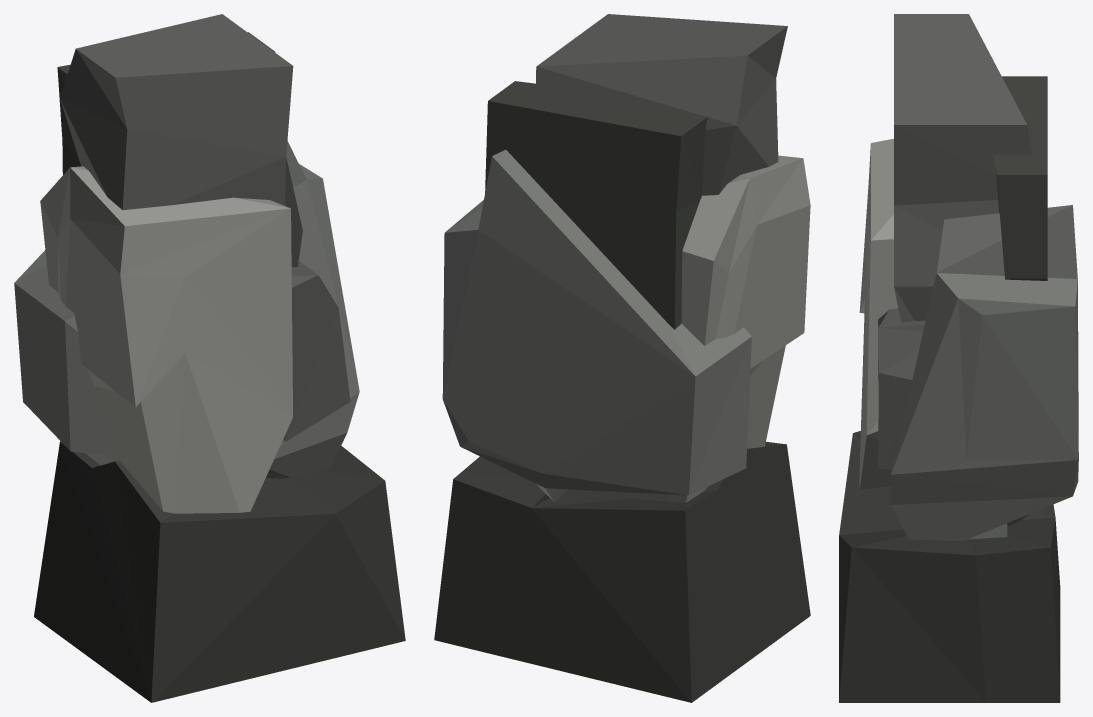
File: DD_Rock01.fbx
The picture shows the model from 3 angles, left to right: view 1: azimuth 30°, elevation 25°; view 2: azimuth 150°, elevation 25°; view 3: azimuth 270°, elevation 25°; orthographic projection. The views are drawn at different scales.
Parts seen in each view (by area): view 1: DD_Rock01; view 2: DD_Rock01; view 3: DD_Rock01.
Part boxes in pixels (box(x1,y1,x2,y2)): DD_Rock01: box(14, 14, 405, 702); DD_Rock01: box(434, 14, 810, 702); DD_Rock01: box(839, 14, 1078, 702).
Size of the model in its own units: 164 by 352 by 134.
1 material, 1 textured.
